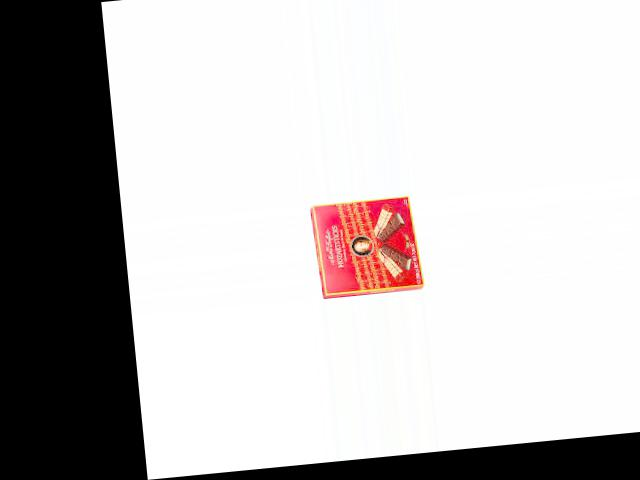chocolate: (311, 192, 427, 300)
